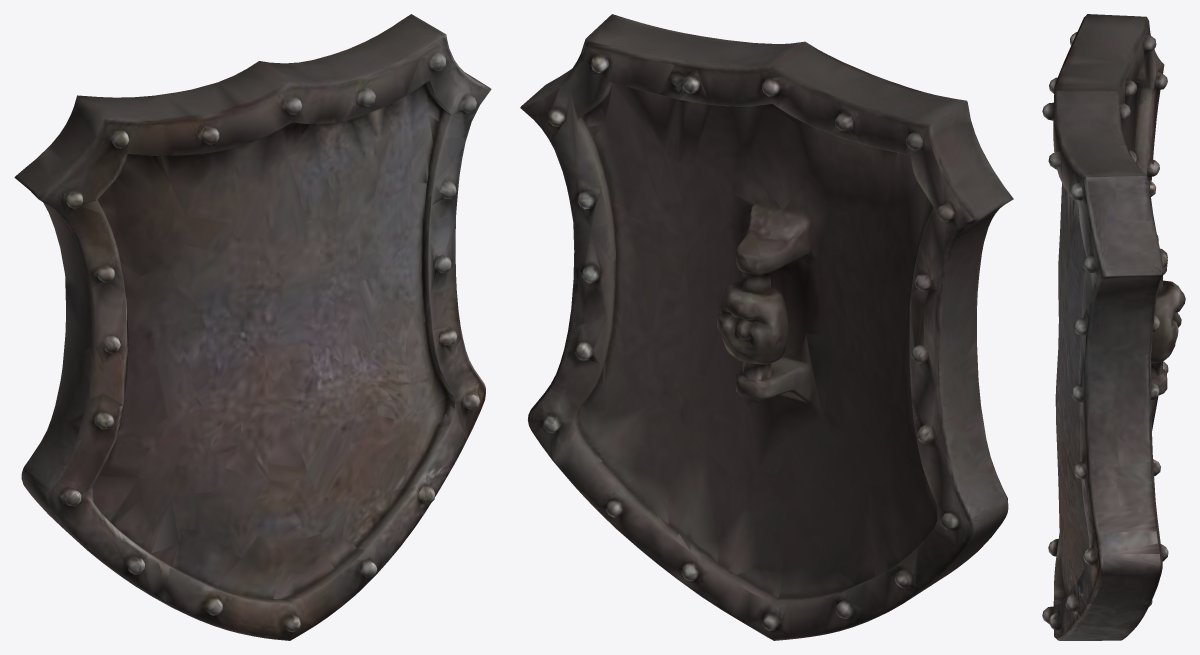
File: escudo-rebites-m68.glb
The picture shows the model from 3 angles, left to right: view 1: azimuth 30°, elevation 25°; view 2: azimuth 150°, elevation 25°; view 3: azimuth 270°, elevation 25°; orthographic projection. The views are drawn at different scales.
Visible parts, largest first — view 1: escudo-rebites; view 2: escudo-rebites; view 3: escudo-rebites.
Boxes of the visible parts, bbox=[...] form: escudo-rebites: bbox=[14, 14, 491, 640]; escudo-rebites: bbox=[520, 14, 1013, 640]; escudo-rebites: bbox=[1042, 14, 1185, 640].
Size of the model in its own units: 0.8503 by 1 by 0.2391.
Materials: 1 (1 with a texture image).
